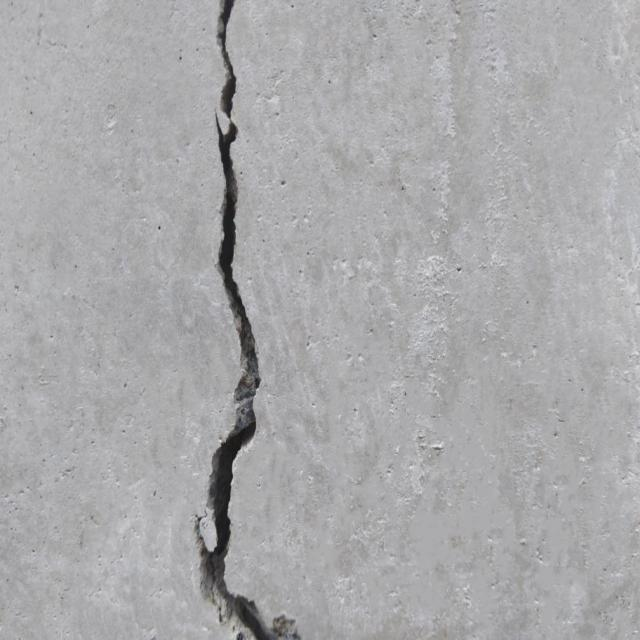vertical crack: (191, 0, 301, 639)
